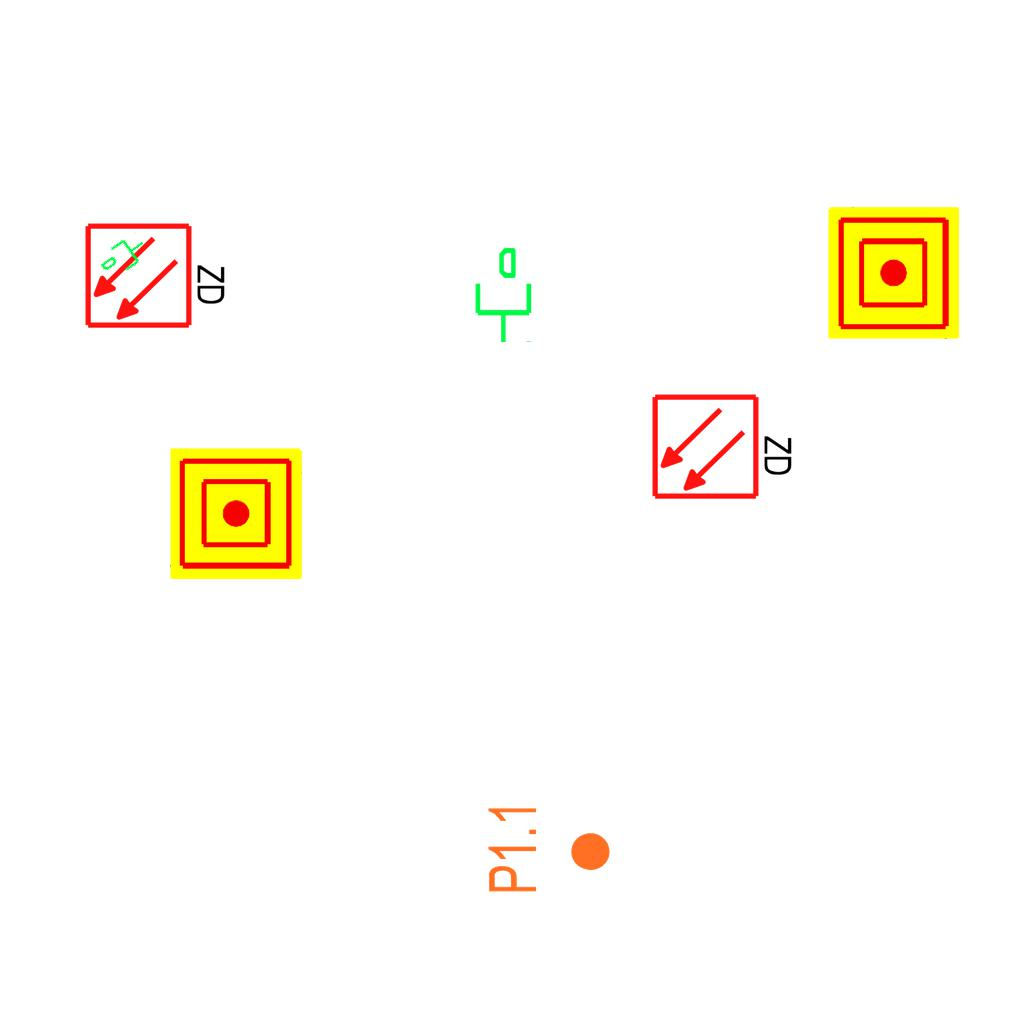Datenanschluss_einfach: (467, 245, 536, 345), (93, 228, 155, 286)
Downlight_LED_Einbauleuchten_Flur: (485, 802, 613, 895)
NAM-Nichtautomatischer_Melder: (170, 448, 302, 580), (828, 207, 960, 339)
ZD_Melder_in_Zwischendecke_mit_Revisionsoeffnung_mind_40_x_40_cm: (83, 217, 232, 331), (650, 388, 799, 502)
